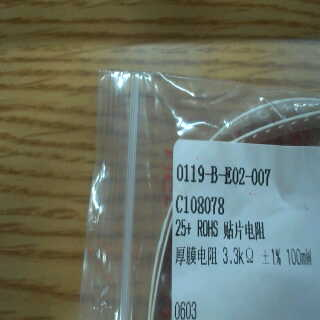3.3kO: (219, 245, 258, 271)
